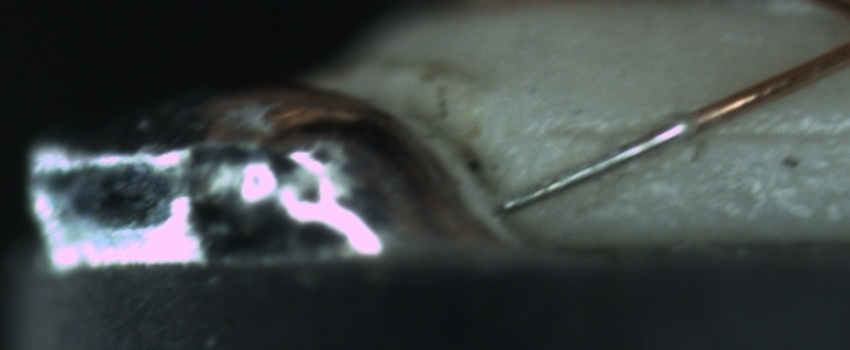DL: (525, 95, 848, 166)
TS: (496, 119, 689, 210)
TTCW: (496, 89, 744, 211)
